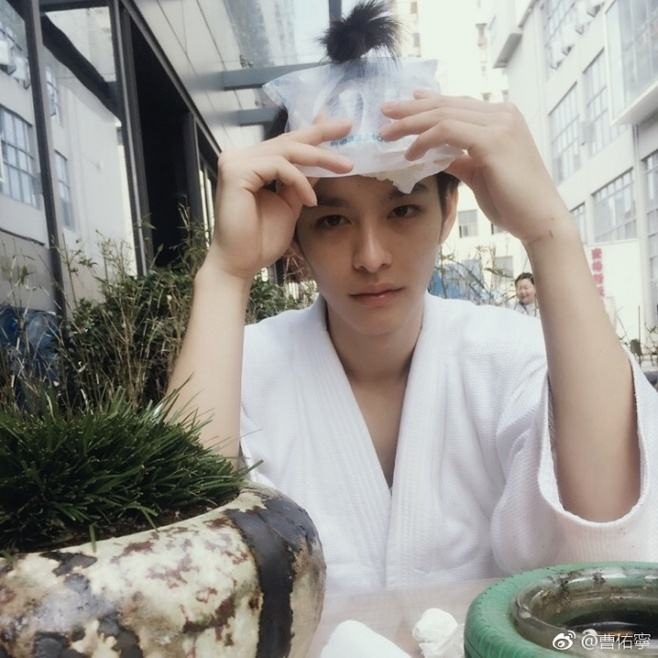person: (180, 55, 607, 512)
